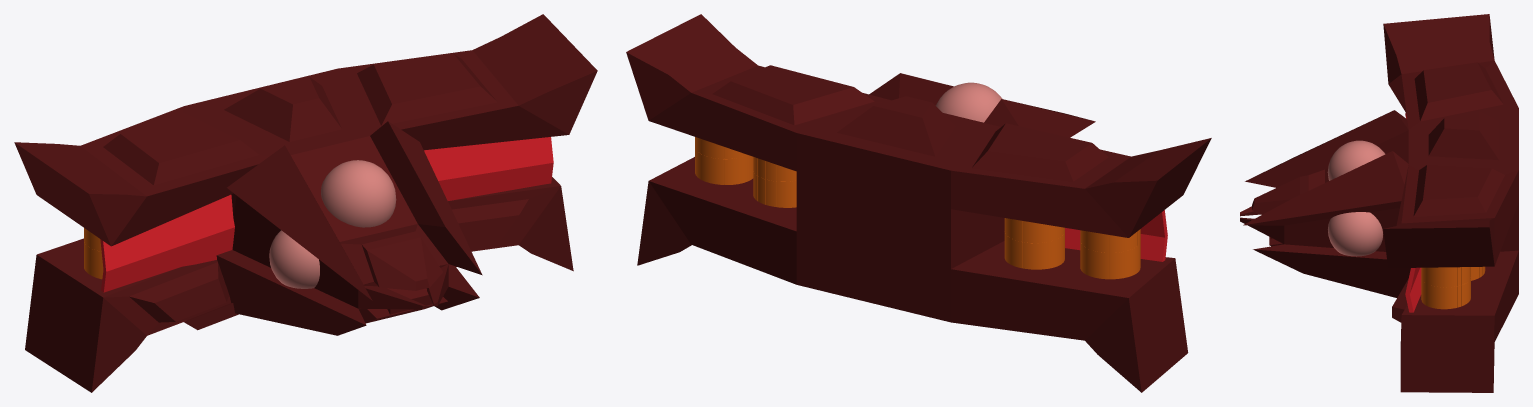
The model's file is boss fracture.fbx.
The picture shows the model from 3 angles, left to right: view 1: azimuth 30°, elevation 25°; view 2: azimuth 150°, elevation 25°; view 3: azimuth 270°, elevation 25°; orthographic projection. The views are drawn at different scales.
Visible parts, largest first — view 1: Cube, Cube.001, Sphere, Sphere.001; view 2: Cube, Sphere, Cube.001; view 3: Cube, Sphere.002, Sphere, Cube.001.
Boxes of the visible parts, bbox=[...] form: Cube: bbox=[14, 14, 597, 392]; Cube.001: bbox=[100, 137, 553, 292]; Sphere: bbox=[321, 160, 396, 227]; Sphere.001: bbox=[269, 230, 319, 288]; Cube: bbox=[626, 14, 1211, 392]; Sphere: bbox=[935, 82, 1002, 122]; Cube.001: bbox=[1065, 210, 1167, 261]; Cube: bbox=[1240, 14, 1518, 392]; Sphere.002: bbox=[1328, 212, 1382, 256]; Sphere: bbox=[1327, 140, 1385, 180]; Cube.001: bbox=[1405, 113, 1421, 312].
Size of the model in its own units: 2035 by 797 by 1128.
